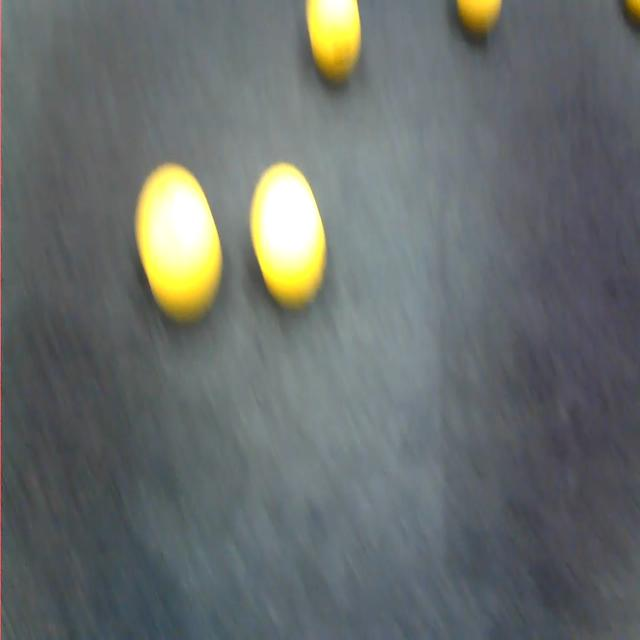fuel: (136, 165, 222, 322), (251, 164, 326, 308)
